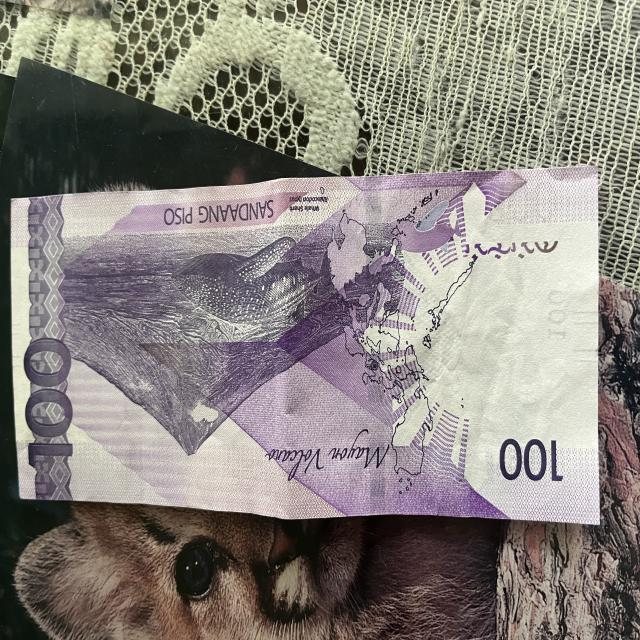security_thread: (356, 175, 394, 514)
value: (18, 331, 76, 466)
value_watermark: (546, 286, 566, 338)
watermark: (448, 247, 580, 445)
